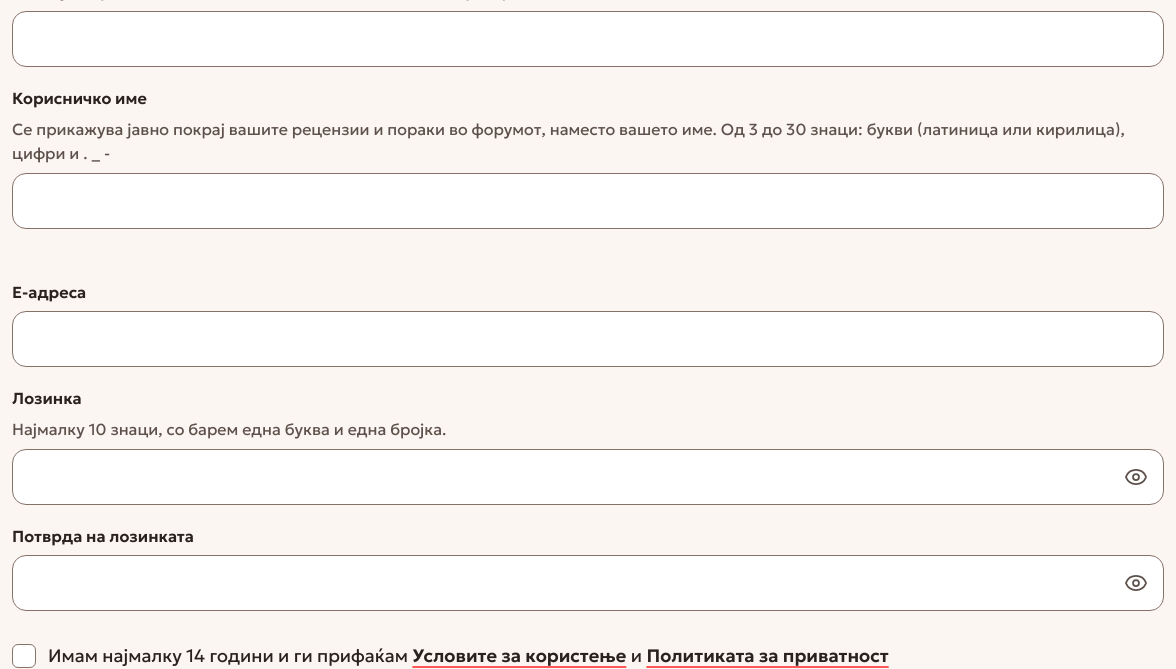
Test: RegisterForm › files the API's „confirmed“ password error under the confirmation field
Step 1. Type "Ана" into the field labelled "Име и презиме" → (588, 39), box [12,11,1164,67]
Step 2. Type "ana@example.mk" into the field labelled "Е-адреса" → (588, 339), box [12,311,1164,367]
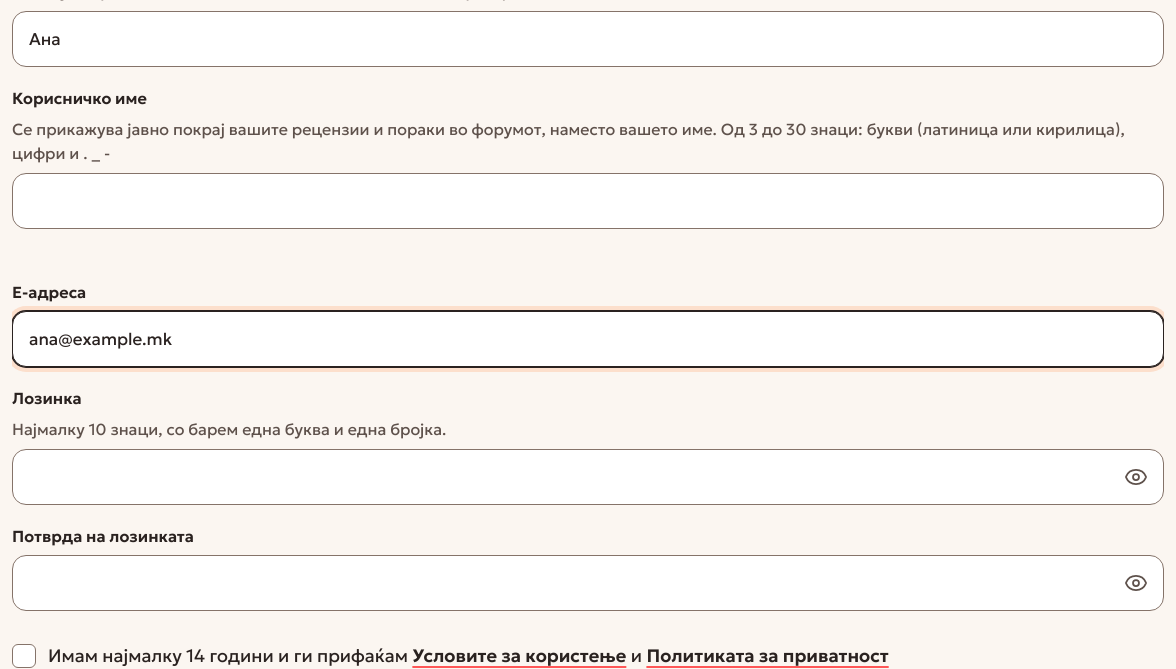
Step 3. Type "lozinka12345" into the password field labelled "Лозинка" → (588, 477), box [12,449,1164,505]
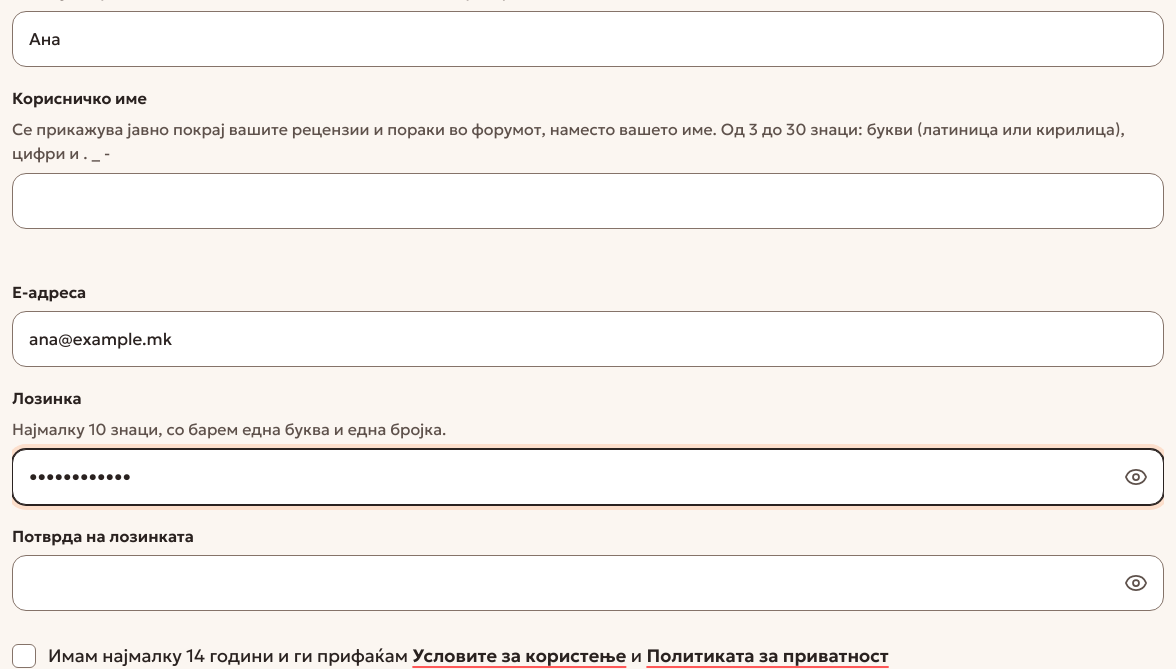
Step 4. Type "lozinka12345" into the password field labelled "Потврда на лозинката" → (588, 583), box [12,555,1164,611]
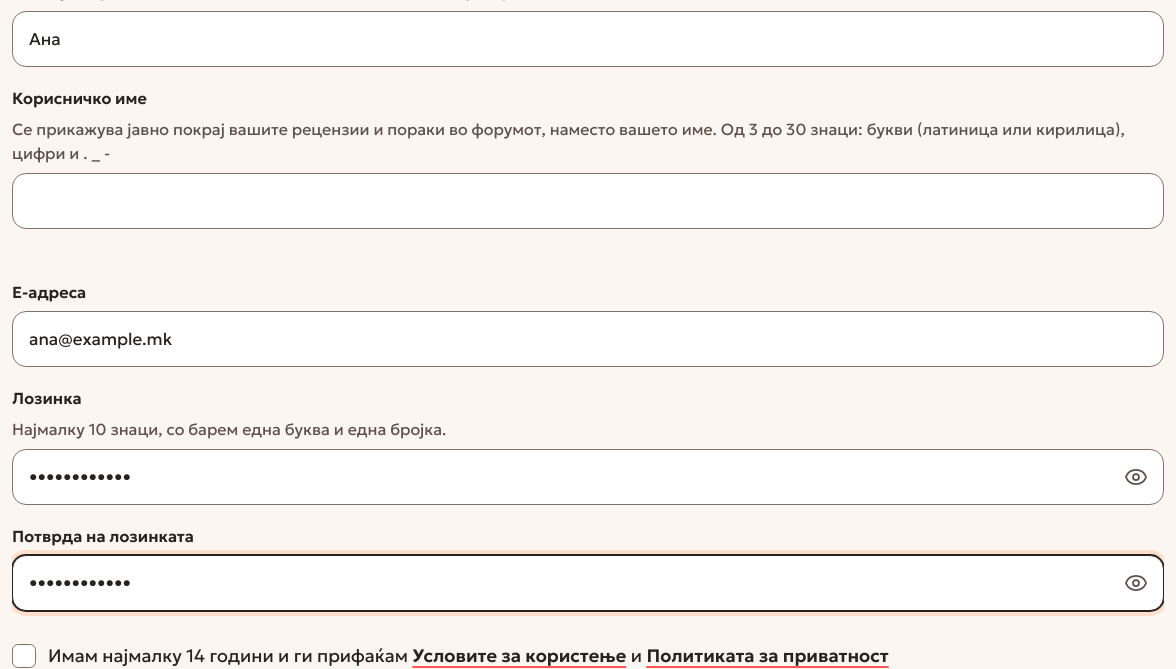
Step 5. Click the checkbox → (24, 656), box [12,644,36,668]
(page scrolled)
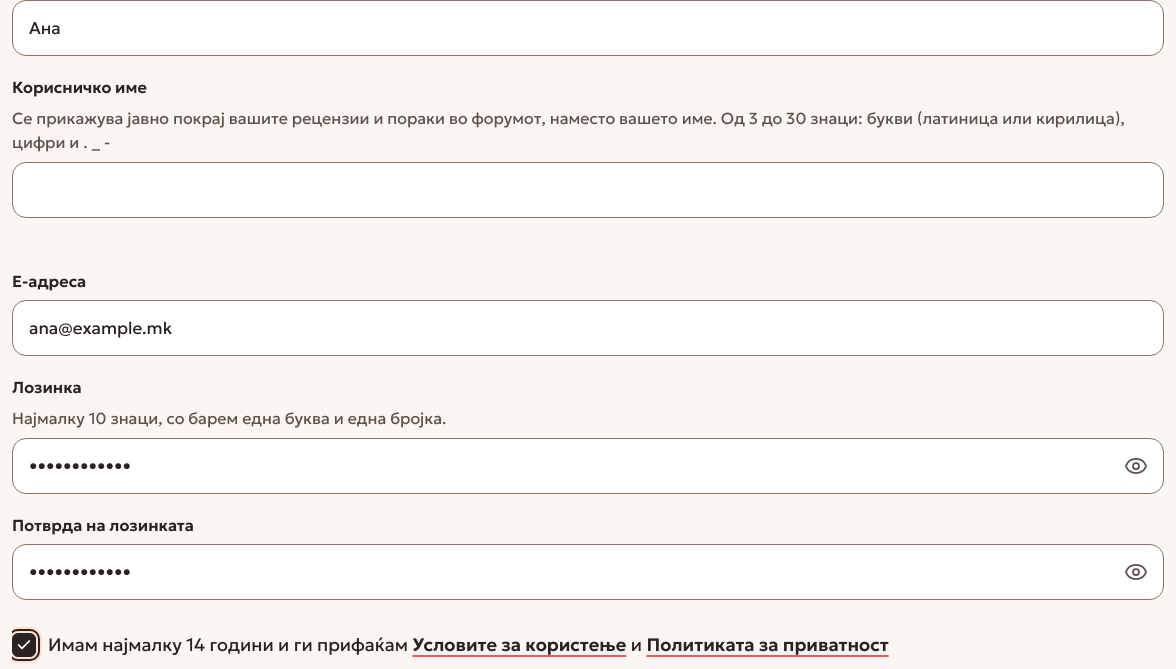
Step 6. Type "ana_bt" into the field labelled "Корисничко име" → (588, 190), box [12,162,1164,218]
(page scrolled)
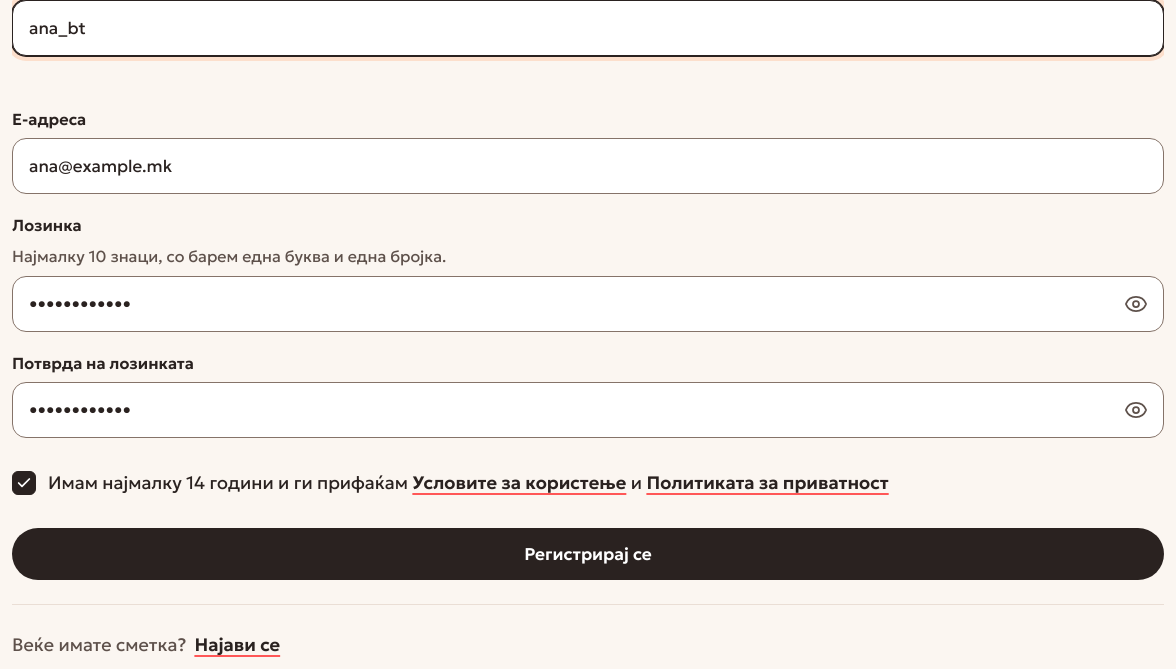
Step 7. Click the button "Регистрирај се" → (588, 554), box [12,528,1164,580]
(page scrolled)
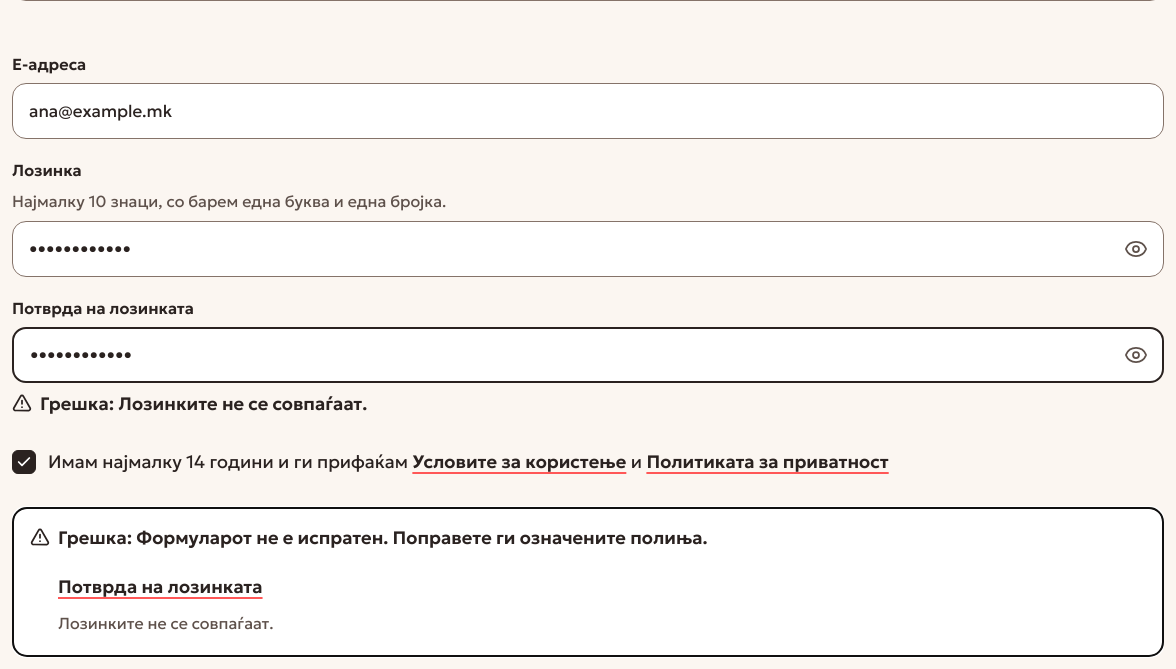
Check: the message that starts with "Грешка:" shows "Лозинките не се совпаѓаат.", box [58,613,274,633]
